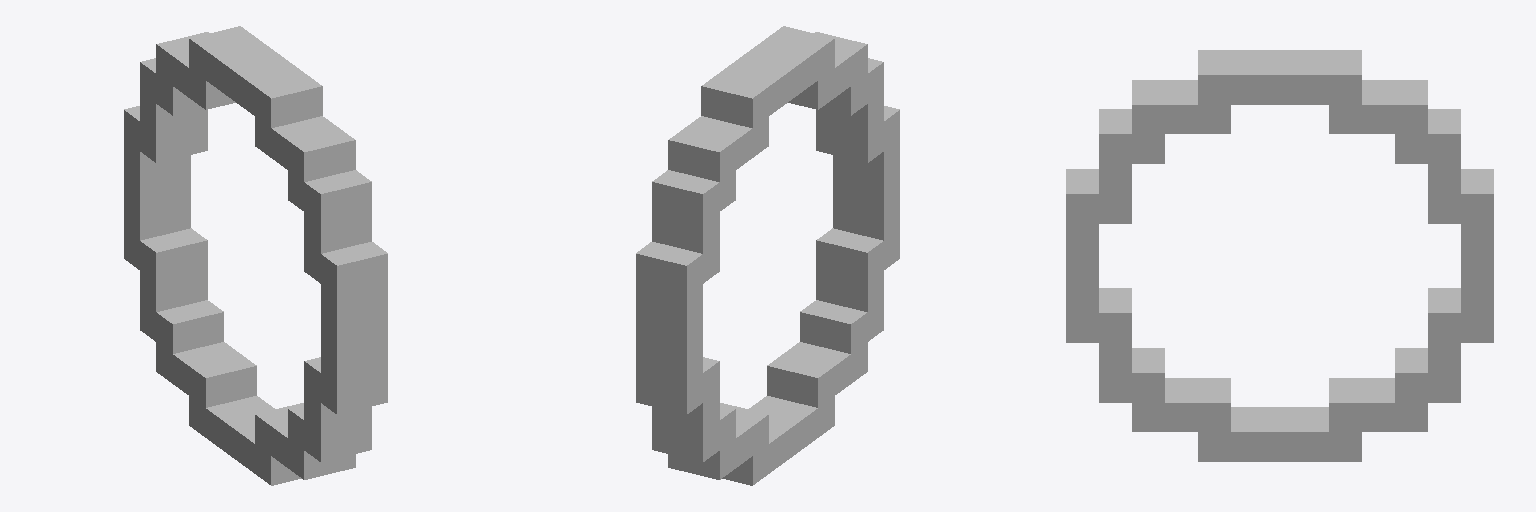
The model's file is Wheel.obj.
3 views of the same model, side by side, from view 1: azimuth 30°, elevation 25°; view 2: azimuth 150°, elevation 25°; view 3: azimuth 270°, elevation 25° (orthographic).
Size of the model in its own units: 9 by 65 by 65.